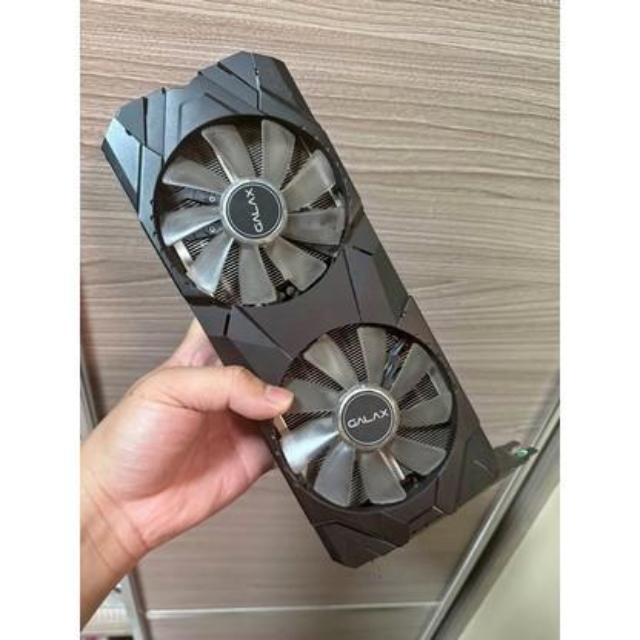GPU: (102, 45, 513, 570)
